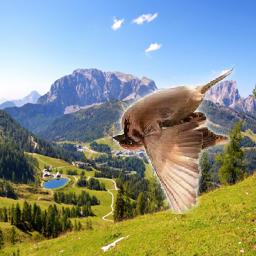Sparrow: (113, 64, 237, 214)
